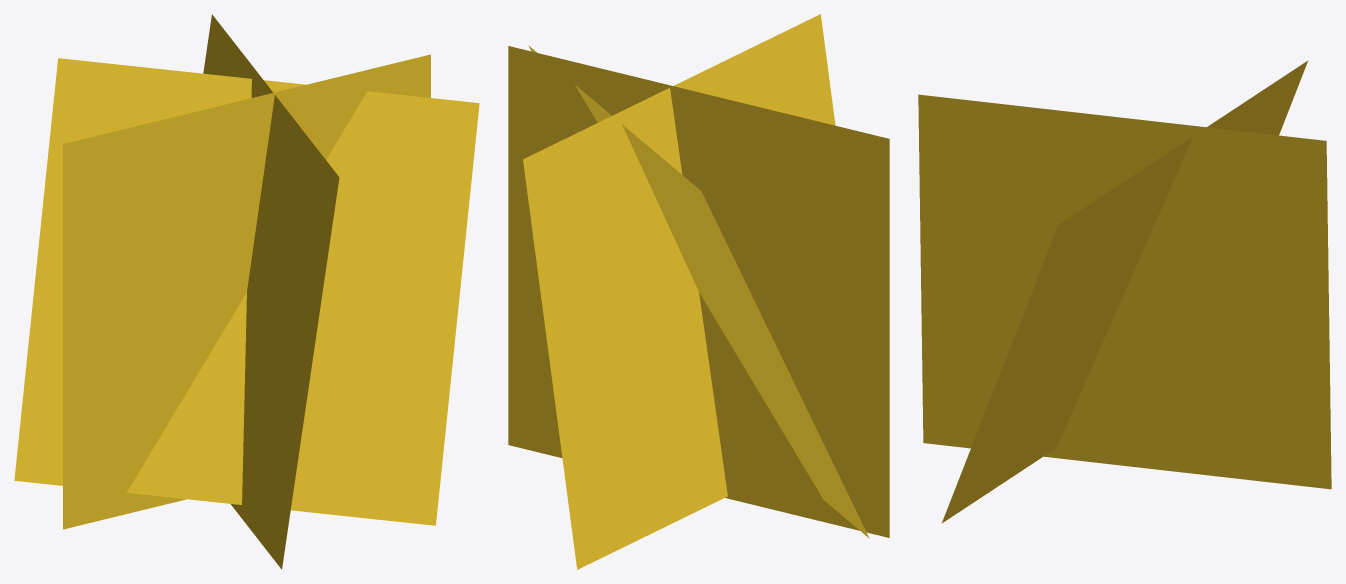
File: Grass Blade (2)  MAIN GRASS.fbx
3 views of the same model, side by side, from view 1: azimuth 30°, elevation 25°; view 2: azimuth 150°, elevation 25°; view 3: azimuth 270°, elevation 25° (orthographic). The views are drawn at different scales.
Visible parts, largest first — view 1: Quad 1, Quad, Quad (1); view 2: Quad, Quad (1), Quad 1; view 3: Quad (1), Quad 1.
Part boxes in pixels (bbox=[...]): Quad 1: bbox=[14, 58, 479, 525]; Quad: bbox=[63, 54, 430, 529]; Quad (1): bbox=[203, 14, 339, 569]; Quad: bbox=[508, 46, 889, 537]; Quad (1): bbox=[523, 14, 835, 569]; Quad 1: bbox=[528, 45, 869, 538]; Quad (1): bbox=[918, 94, 1331, 489]; Quad 1: bbox=[941, 60, 1308, 523].
Bounding box in the file's own units: 14.25 × 13.33 × 13.04.
